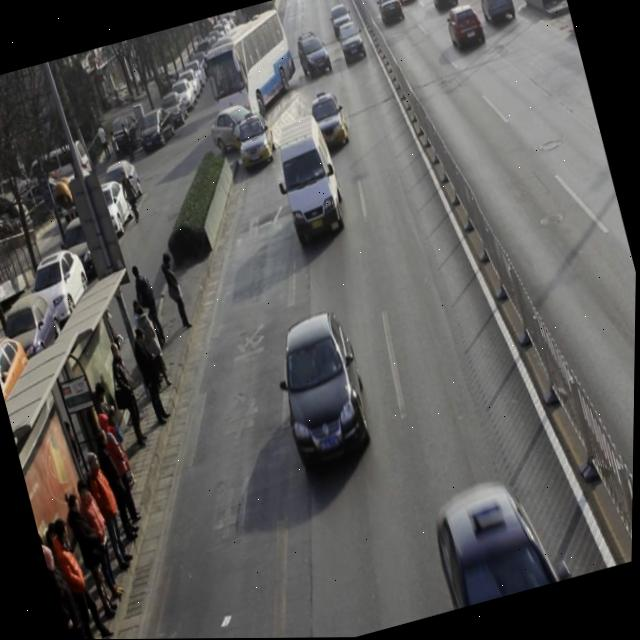car: (425, 471, 566, 611), (267, 307, 382, 469), (206, 98, 271, 158), (305, 89, 354, 155), (230, 111, 281, 173), (441, 0, 489, 56), (293, 28, 335, 81), (335, 18, 369, 66), (473, 0, 517, 25), (373, 0, 406, 29), (426, 0, 460, 14)
truck: (269, 112, 354, 245)
van: (195, 6, 304, 125)
